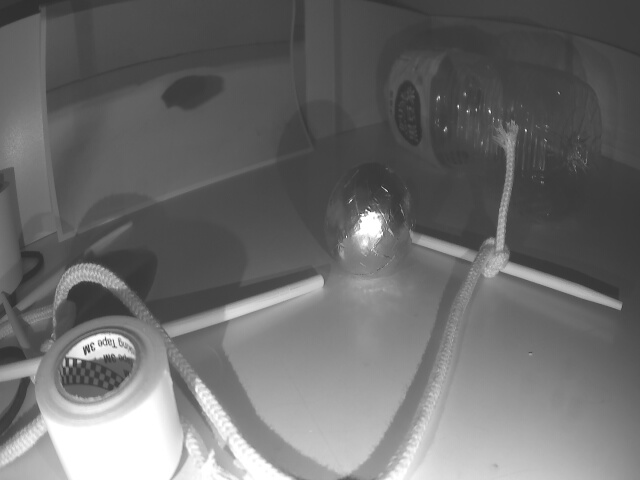Live: (329, 162, 410, 273)
